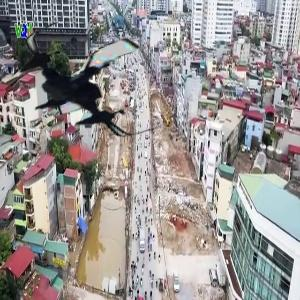drone: (19, 7, 168, 156)
